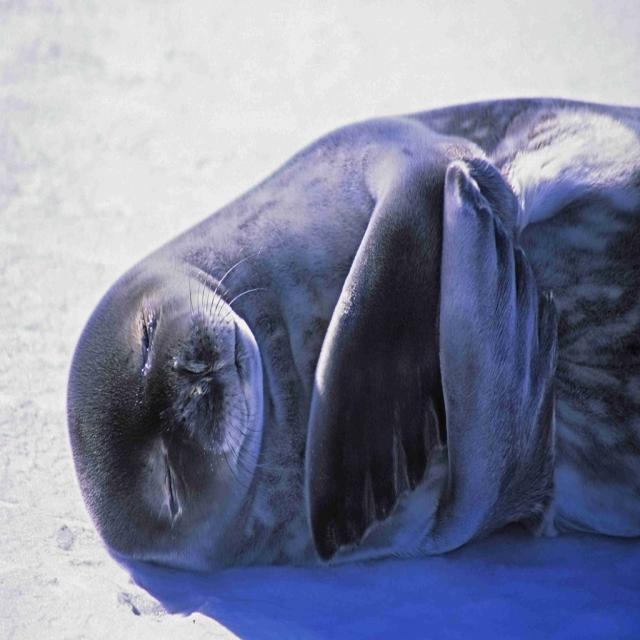WaterDog: (57, 88, 640, 584)
